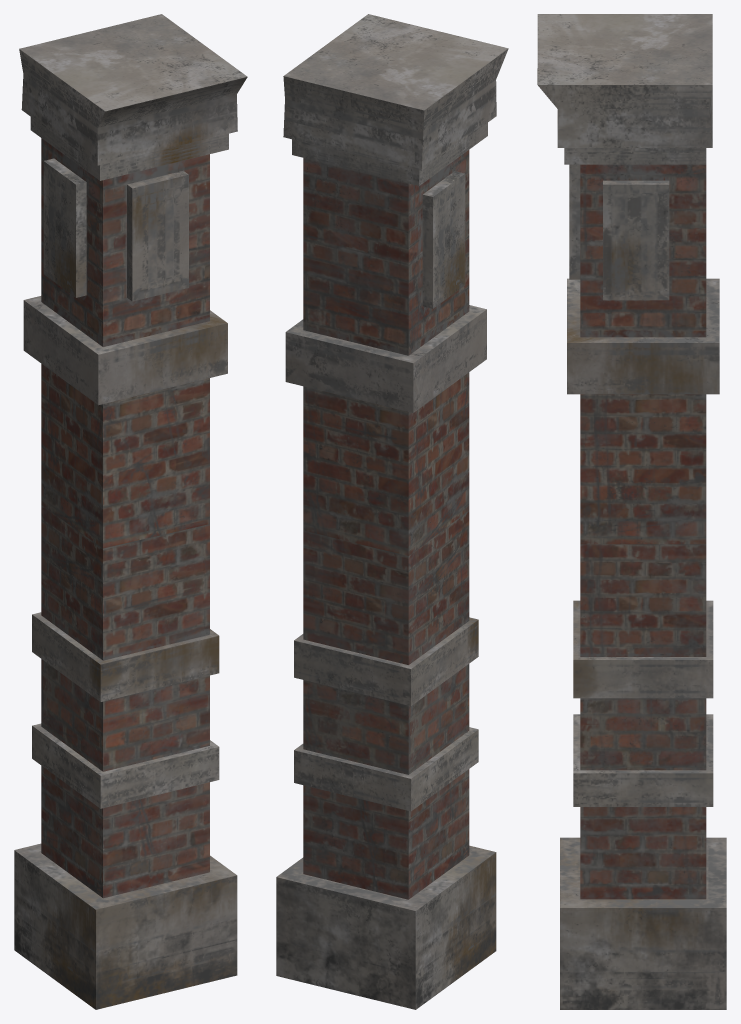
Rendered from palace_wall_column_B.fbx.
3 views of the same model, side by side, from view 1: azimuth 30°, elevation 25°; view 2: azimuth 150°, elevation 25°; view 3: azimuth 270°, elevation 25° (orthographic). The views are drawn at different scales.
Visible parts, largest first — view 1: palace_wall_column_B; view 2: palace_wall_column_B; view 3: palace_wall_column_B.
Boxes of the visible parts, <box> form: palace_wall_column_B: <box>14,14,247,1009</box>; palace_wall_column_B: <box>276,14,508,1009</box>; palace_wall_column_B: <box>537,14,726,1009</box>.
Bounding box in the file's own units: 67.08 × 406 × 75.19.
Materials: 1 (1 with a texture image).
